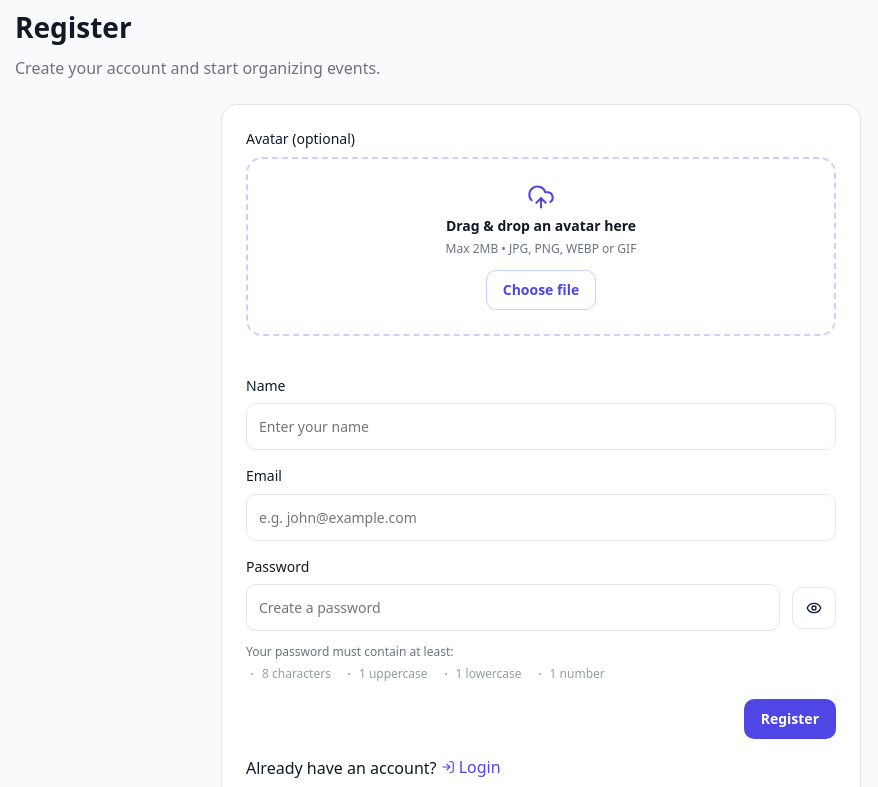
Test: RegisterPage › shows validation errors when submitting empty form
Click the button "Register": click(790, 719) [744,699,836,739]
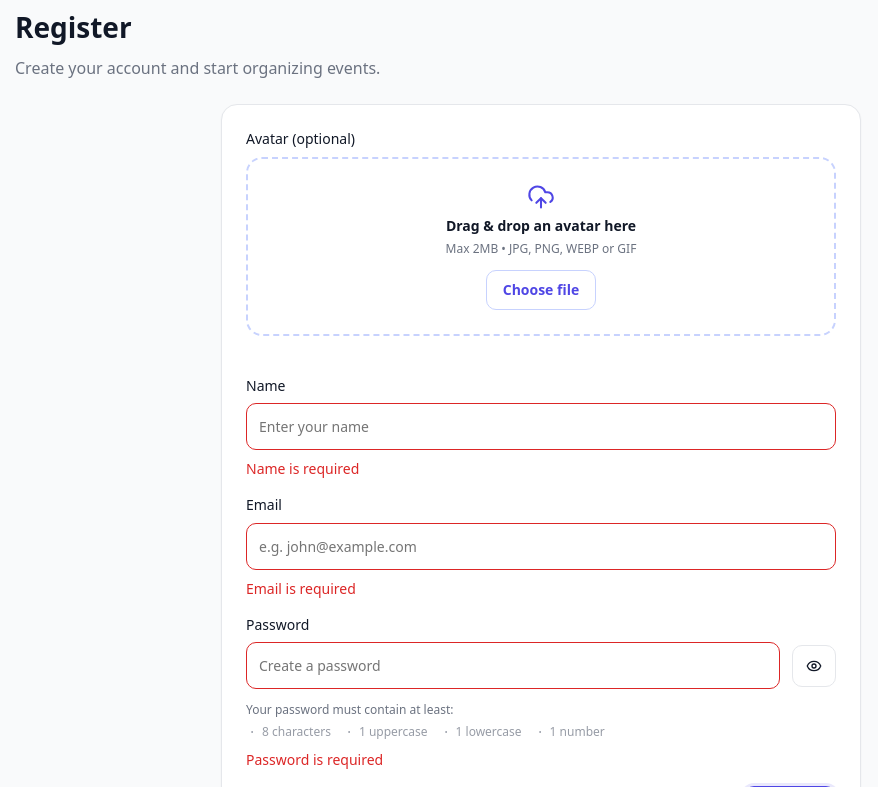
Now the text "Name is required" is shown, box [246,459,359,478]
Now the text "Email is required" is shown, box [246,579,356,598]
Now the text "Password is required" is shown, box [246,750,383,769]
